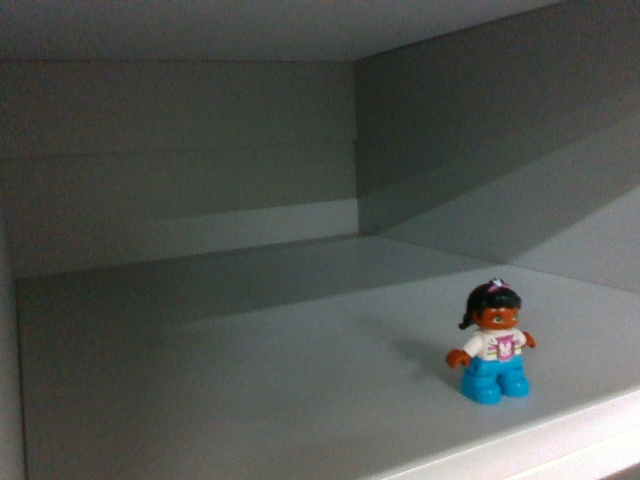people: (444, 275, 543, 409)
